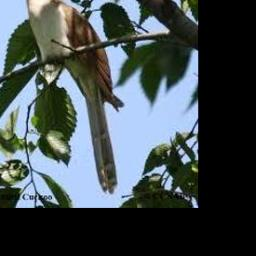Cuckoo: (8, 0, 124, 193)
